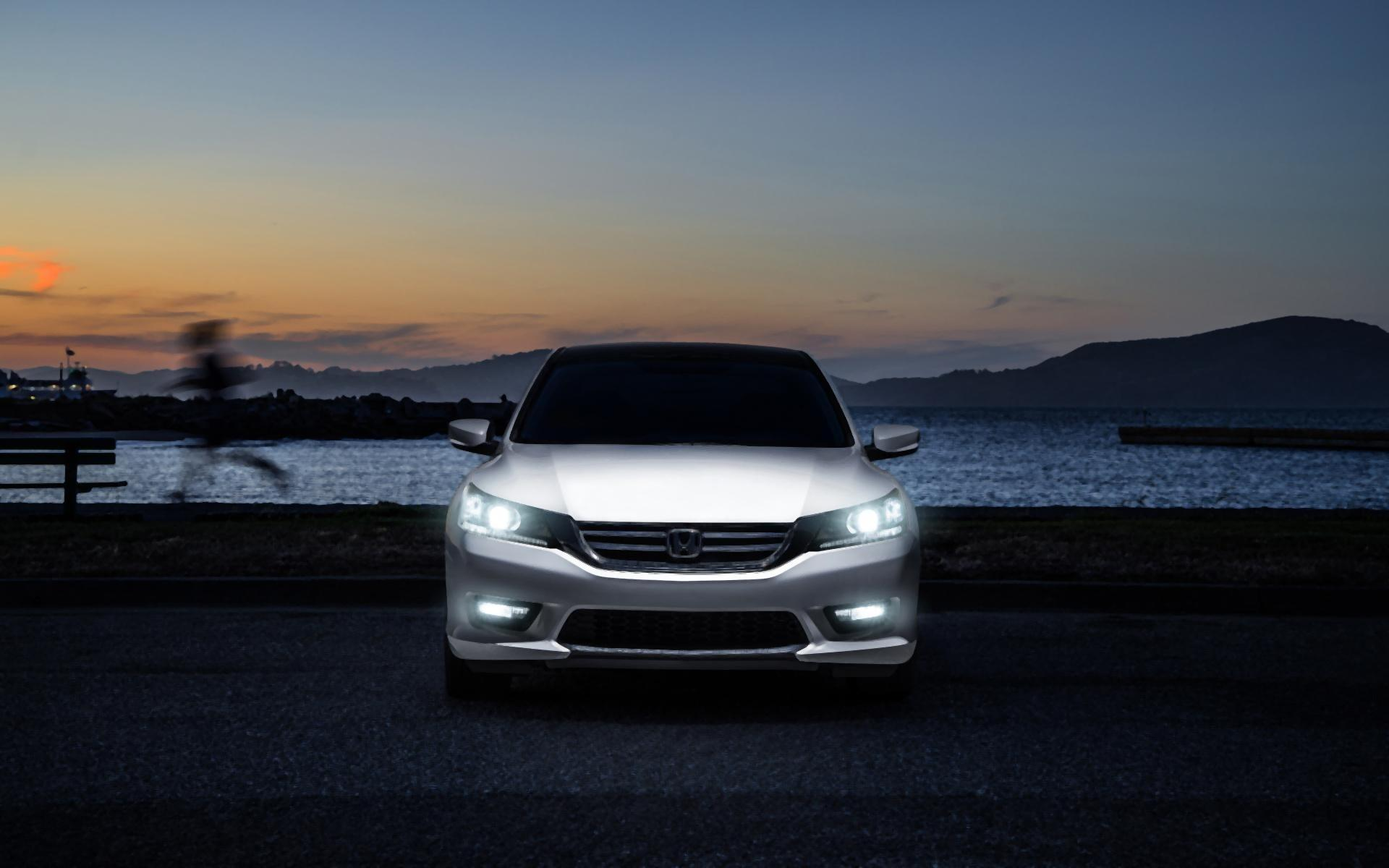Car hood: (470, 442, 906, 529)
Front bumper: (437, 533, 929, 680)
Headlight - -L-: (792, 472, 917, 565)
Headlight - -R-: (437, 480, 584, 562)
Side mirror - -L-: (856, 413, 938, 470)
Side mirror - -R-: (439, 403, 518, 465)
